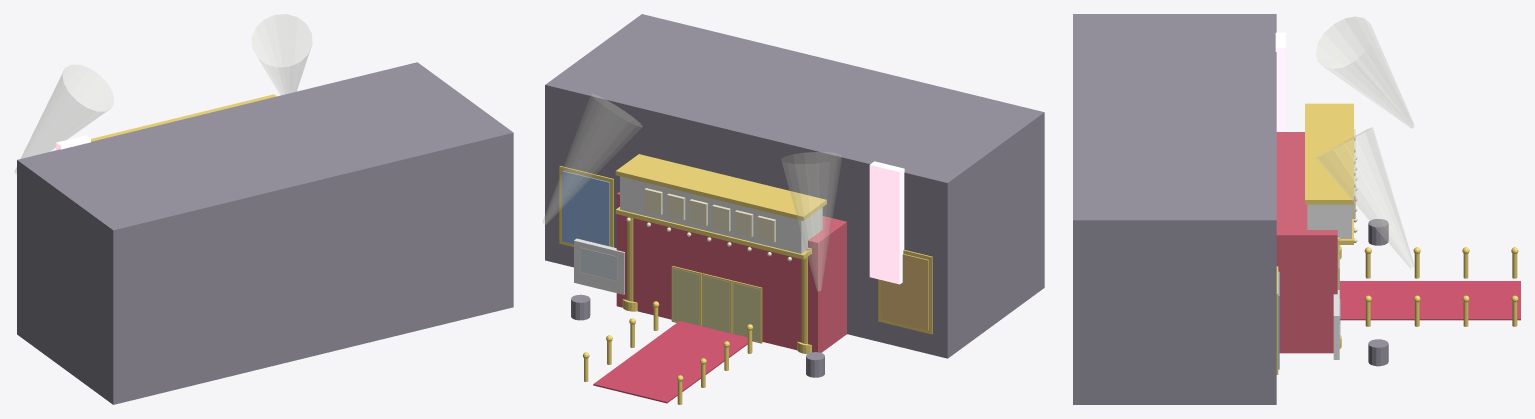
The model's file is cinema_facade.fbx.
The picture shows the model from 3 angles, left to right: view 1: azimuth 30°, elevation 25°; view 2: azimuth 150°, elevation 25°; view 3: azimuth 270°, elevation 25°; orthographic projection. The views are drawn at different scales.
Visible parts, largest first — view 1: Main_Building, Searchlight_Beam_L, Searchlight_Beam_R, Marquee_Trim_Top; view 2: Main_Building, Entrance_Block, Carpet, Marquee_Trim_Top, Searchlight_Beam_L, Searchlight_Beam_R, Marquee_Band, VSign, Poster_B, Poster_A, TicketWindow, DoorFrame2 (+19 smaller); view 3: Main_Building, Entrance_Block, Carpet, Searchlight_Beam_R, Marquee_Trim_Top, Searchlight_Beam_L, Marquee_Band, VSign, Searchlight_Base_R, Searchlight_Base_L, TicketWindow.
Part boxes in pixels (x1,y1,x2,y2): Main_Building: (17,62,513,404); Searchlight_Beam_L: (14,65,113,174); Searchlight_Beam_R: (252,14,312,94); Marquee_Trim_Top: (91,94,276,141); Main_Building: (545,14,1044,358); Entrance_Block: (616,192,846,352); Carpet: (593,321,753,403); Marquee_Trim_Top: (615,154,826,220); Searchlight_Beam_L: (781,152,841,290); Searchlight_Beam_R: (542,94,642,224); Marquee_Band: (620,176,822,253); VSign: (869,161,904,284); Poster_B: (562,171,609,246); Poster_A: (881,254,928,330); TicketWindow: (574,238,624,294); DoorFrame2: (671,266,701,325); Main_Building: (1073,14,1276,404); Entrance_Block: (1276,132,1337,353); Carpet: (1340,281,1520,320); Searchlight_Beam_R: (1316,127,1414,268); Marquee_Trim_Top: (1305,103,1353,204); Searchlight_Beam_L: (1316,17,1414,128); Marquee_Band: (1307,204,1351,238); VSign: (1275,32,1285,131); Searchlight_Base_R: (1368,339,1388,366); Searchlight_Base_L: (1368,219,1388,245); TicketWindow: (1333,290,1339,359).
Bounding box in the file's own units: 24 × 12.35 × 22.
